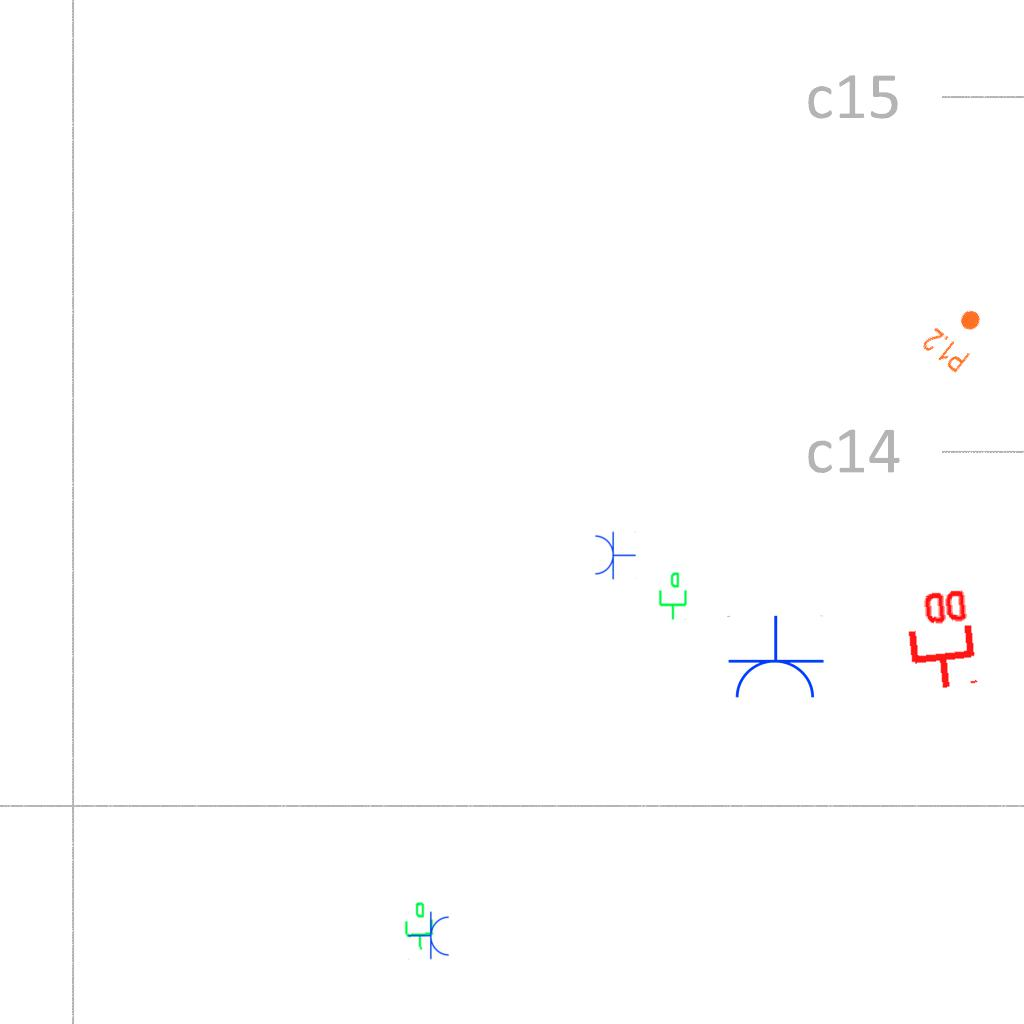Datenanschluss_einfach: (399, 899, 437, 953), (655, 571, 689, 621)
Datenanschluss_zweifach: (899, 584, 980, 695)
Downlight_LED_Einbauleuchten_Flur: (919, 296, 995, 376)
Schukosteckdose_einfach: (725, 615, 825, 702), (593, 530, 636, 580), (408, 911, 451, 961)
